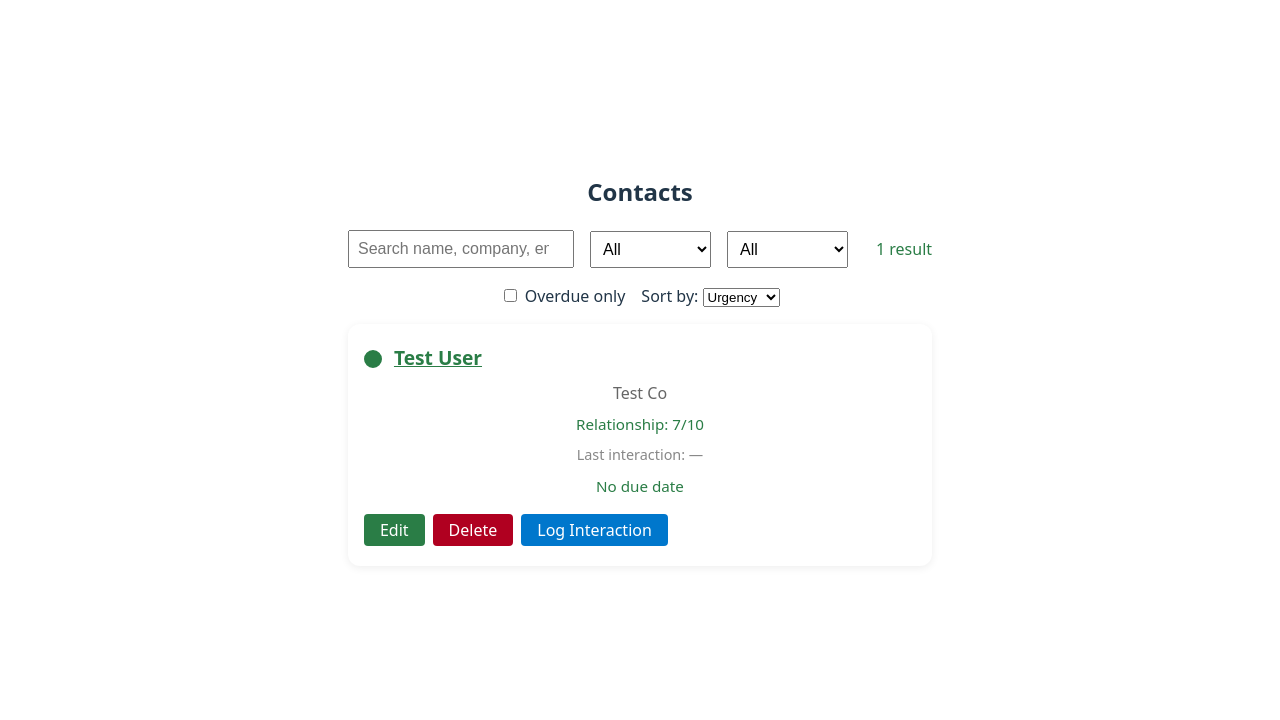
Test: Interaction Logging Features › can log interactions from contact card
Expected: the link "Test User" is shown, [394,344,482,373]
Click the button "Log Interaction" at (595, 530), box [521,514,668,546]
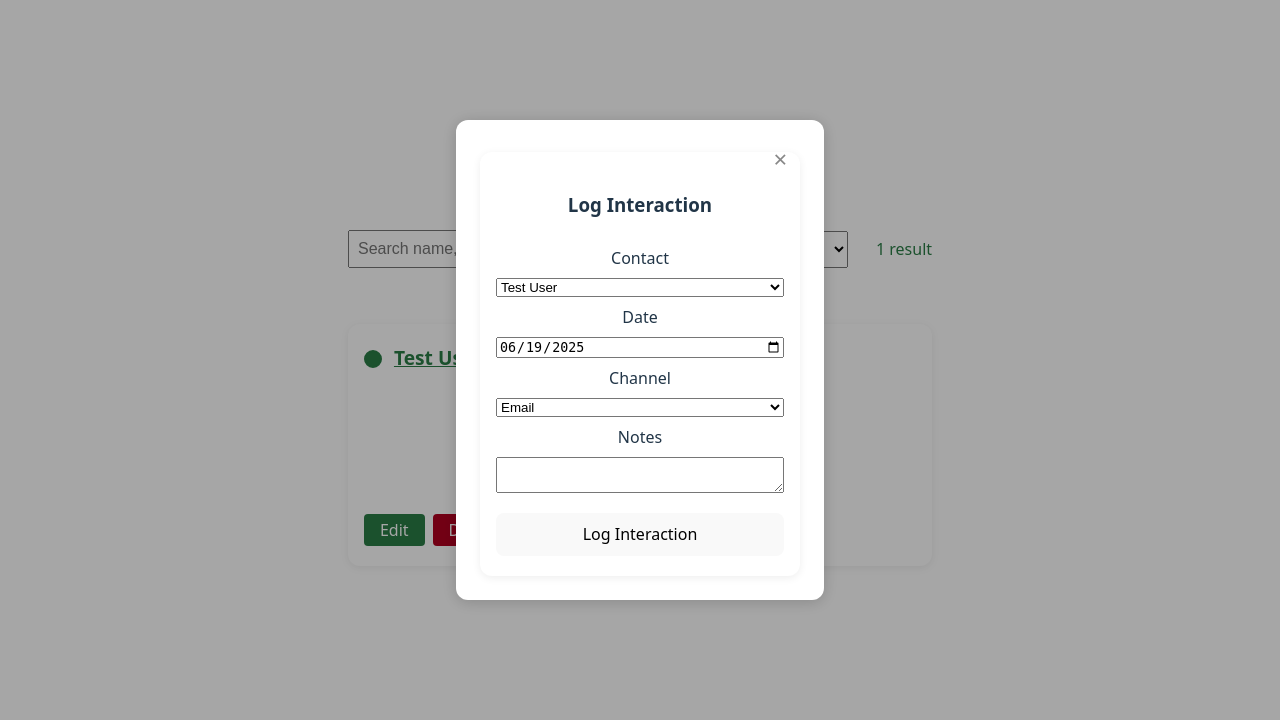
Expected: the dialog "× Log Interaction Contact Date Channel Notes Log Interaction" is shown
